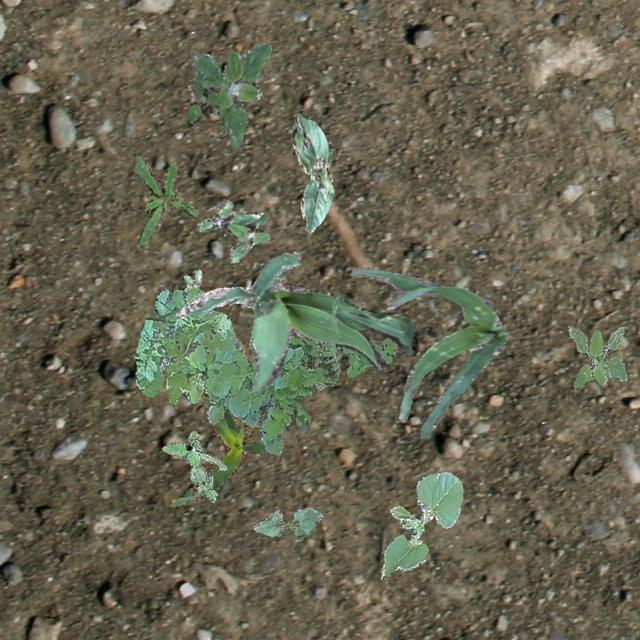crop: (175, 250, 416, 392), (350, 266, 508, 438), (168, 389, 268, 506), (381, 471, 462, 576), (290, 111, 332, 232), (252, 506, 322, 540)
weed: (134, 286, 396, 454), (187, 42, 270, 148), (132, 154, 198, 243), (160, 429, 226, 502), (194, 200, 268, 262), (568, 326, 626, 388), (182, 268, 200, 290)
